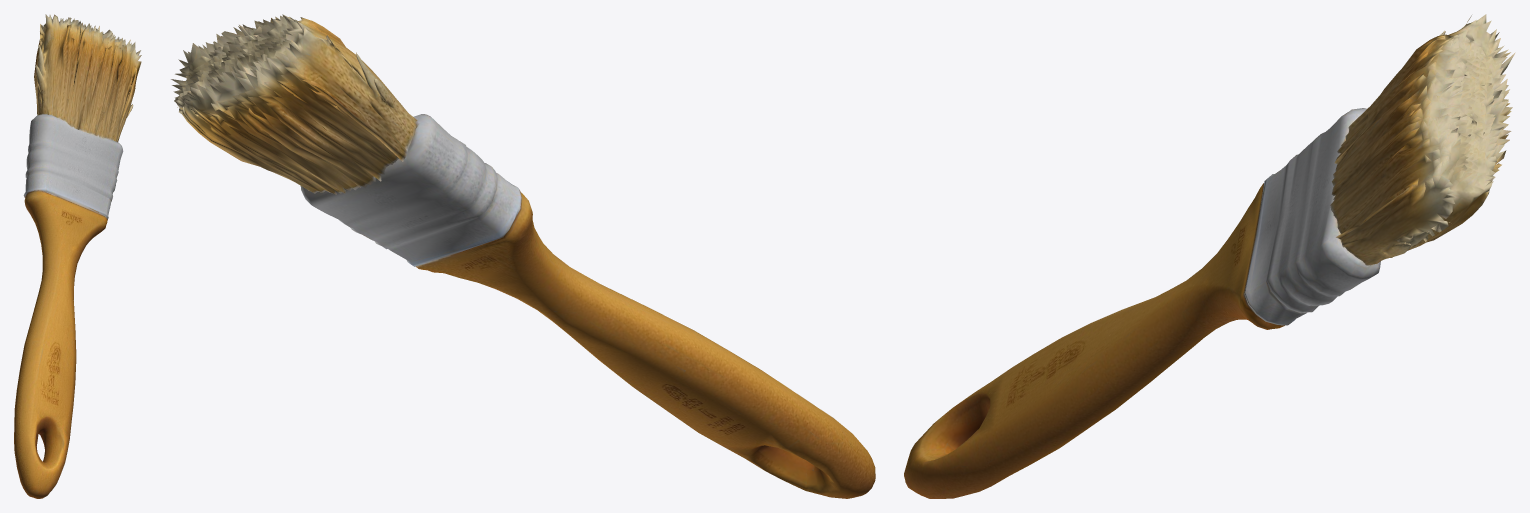
The model's file is paintbrush.glb.
3 renders of one model, left to right at view 1: azimuth 30°, elevation 25°; view 2: azimuth 150°, elevation 25°; view 3: azimuth 270°, elevation 25°, orthographic. The views are drawn at different scales.
Visible parts, largest first — view 1: tripo_node_9daff2d0-48ec-45ad-a002-0b75f968113a; view 2: tripo_node_9daff2d0-48ec-45ad-a002-0b75f968113a; view 3: tripo_node_9daff2d0-48ec-45ad-a002-0b75f968113a.
Boxes of the visible parts, x1,y1,x2,y2 form: tripo_node_9daff2d0-48ec-45ad-a002-0b75f968113a: [14, 14, 141, 498]; tripo_node_9daff2d0-48ec-45ad-a002-0b75f968113a: [171, 14, 875, 498]; tripo_node_9daff2d0-48ec-45ad-a002-0b75f968113a: [904, 14, 1515, 498].
Size of the model in its own units: 0.791 by 0.998 by 0.8887.
1 material, 1 textured.
